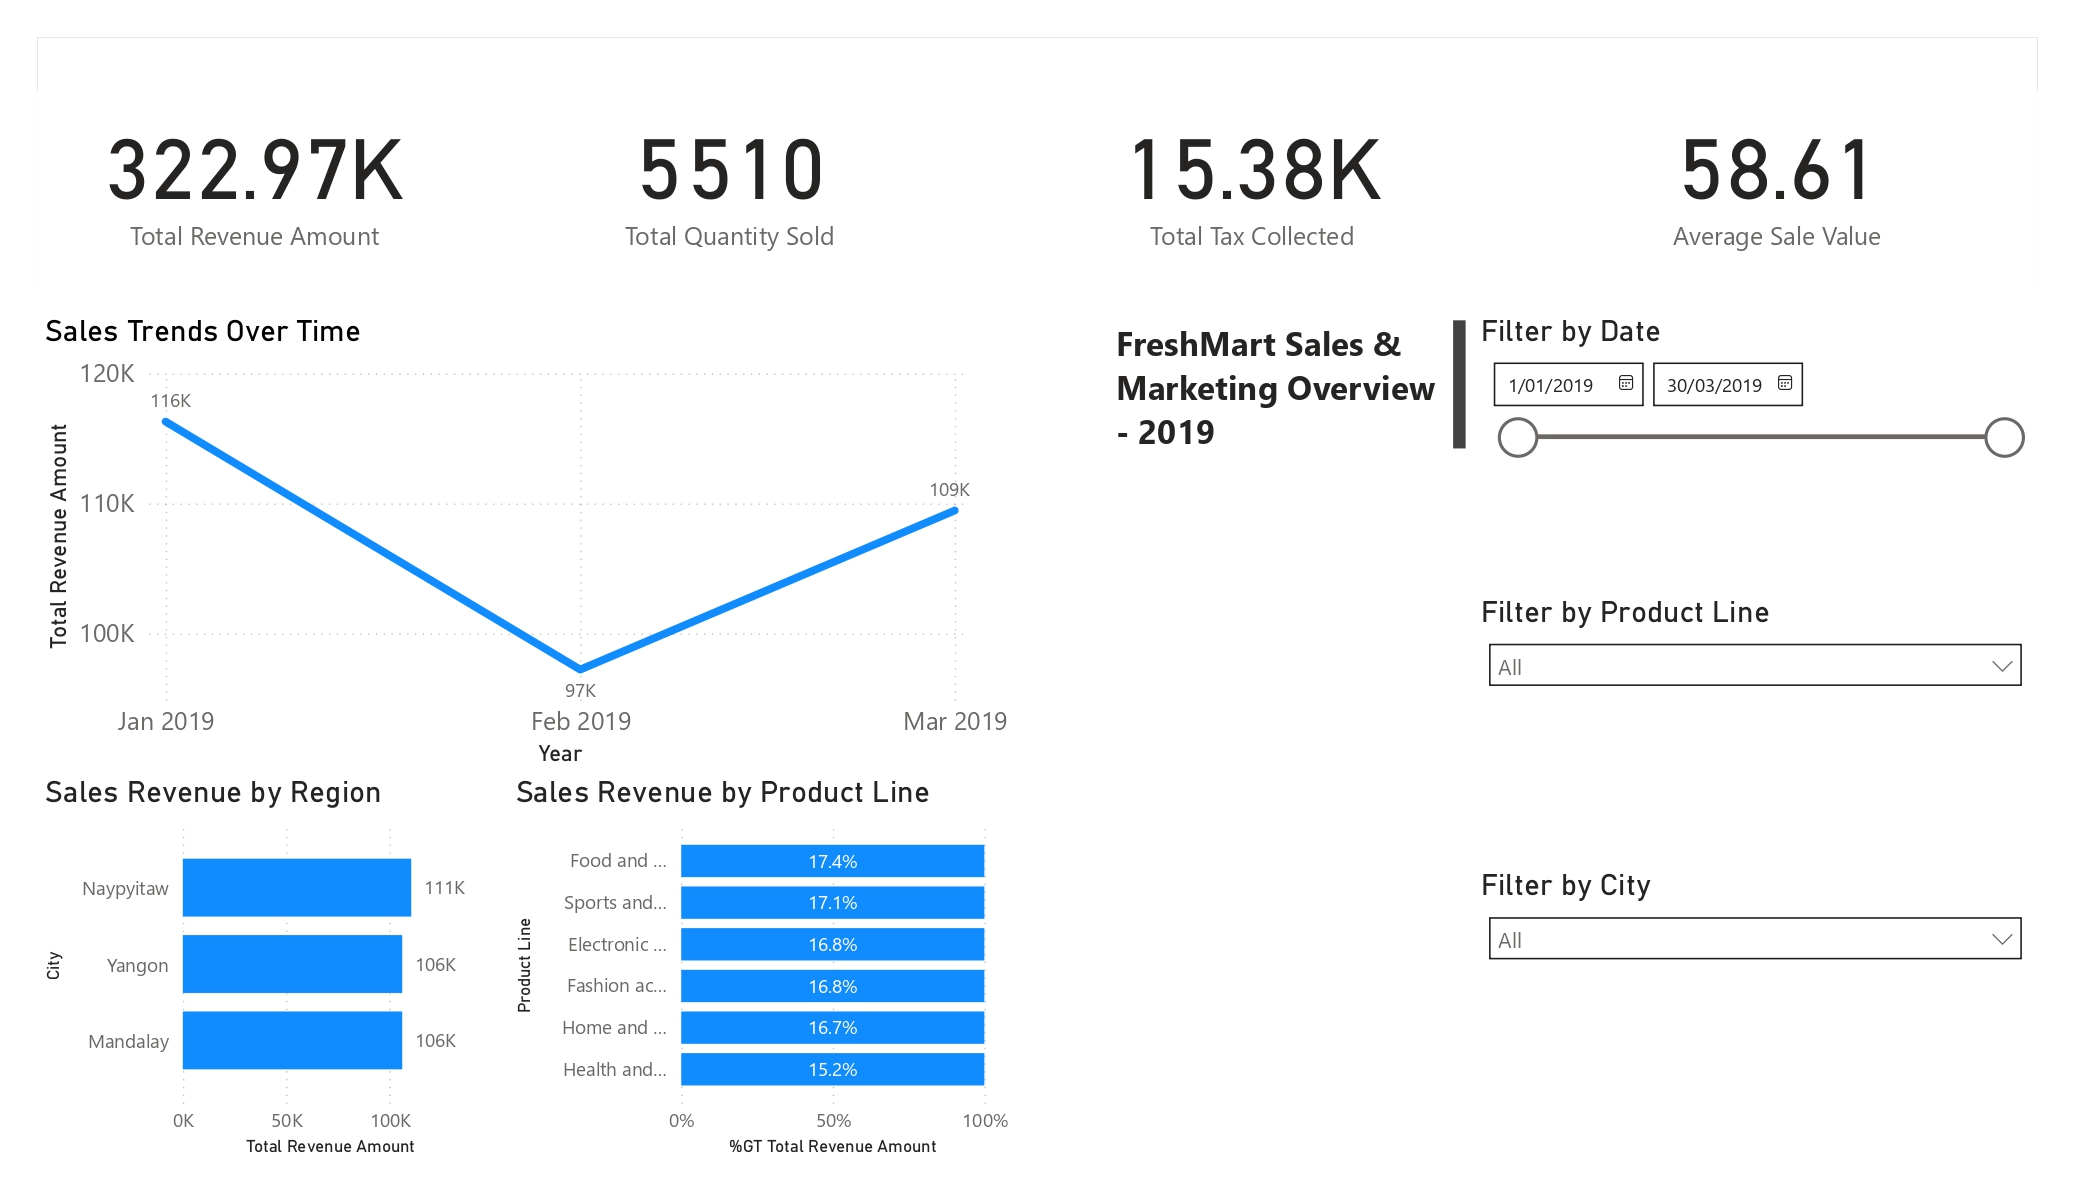

The page's visual inventory and layout, read from the dashboard file:
{"tool":"powerbi","page":{"name":"Sales and marketing dashboard","canvas":[1280,720],"ordinal":0},"visuals":[{"type":"card","title":"Total Revenue","fields":{"Values":["supermarket_sales.Total Revenue Amount"]},"box":[0,0,278,176.2],"z":0},{"type":"card","fields":{"Values":["supermarket_sales.Total Quantity Sold"]},"box":[278,0,330.3,176.2],"z":1000},{"type":"card","fields":{"Values":["supermarket_sales.Total Tax Collected"]},"box":[608.3,0,338.6,176.2],"z":2000},{"type":"card","fields":{"Values":["supermarket_sales.Average Sale Value"]},"box":[946.9,0,333.1,176.2],"z":3000},{"type":"lineChart","title":"Sales Trends Over Time","fields":{"Y":["supermarket_sales.Total Revenue Amount"],"Category":["supermarket_sales.Date.Variation.Date Hierarchy.Year","supermarket_sales.Date.Variation.Date Hierarchy.Month"]},"box":[0,176.2,626.2,294.5],"z":4000},{"type":"clusteredBarChart","title":"Sales Revenue by Region","fields":{"Category":["supermarket_sales.City"],"Y":["supermarket_sales.Total Revenue Amount"]},"box":[0,470.7,301.4,249.1],"z":5000},{"type":"hundredPercentStackedBarChart","title":"Sales Revenue by Product Line","fields":{"Category":["supermarket_sales.Product Line"],"Y":["supermarket_sales.Total Revenue Amount"]},"box":[301.4,470.7,324.8,249.1],"z":6000},{"type":"slicer","title":"Filter by Date","fields":{"Values":["supermarket_sales.Date"]},"box":[919.4,176.2,360.6,180.3],"z":7000},{"type":"slicer","title":"Filter by City","fields":{"Values":["supermarket_sales.City"]},"box":[919.4,531.3,360.6,188.6],"z":8000},{"type":"slicer","title":"Filter by Product Line","fields":{"Values":["supermarket_sales.Product Line"]},"box":[919.4,356.5,360.6,174.8],"z":9000},{"type":"textbox","box":[685.4,176.2,234,100.5],"z":10000}]}

Visuals, with their boxes on the page's 1280x720 design canvas (x1, y1, x2, y2). These are canvas units, not pixel positions in the 2075x1200 screenshot, which may show the page scaled, cropped or inside an application window:
"Total Revenue" card: bbox(0, 0, 278, 176)
card - supermarket_sales.Total Quantity Sold: bbox(278, 0, 608, 176)
card - supermarket_sales.Total Tax Collected: bbox(608, 0, 947, 176)
card - supermarket_sales.Average Sale Value: bbox(947, 0, 1280, 176)
"Sales Trends Over Time" lineChart: bbox(0, 176, 626, 471)
"Sales Revenue by Region" clusteredBarChart: bbox(0, 471, 301, 720)
"Sales Revenue by Product Line" hundredPercentStackedBarChart: bbox(301, 471, 626, 720)
"Filter by Date" slicer: bbox(919, 176, 1280, 356)
"Filter by City" slicer: bbox(919, 531, 1280, 720)
"Filter by Product Line" slicer: bbox(919, 356, 1280, 531)
textbox: bbox(685, 176, 919, 277)
